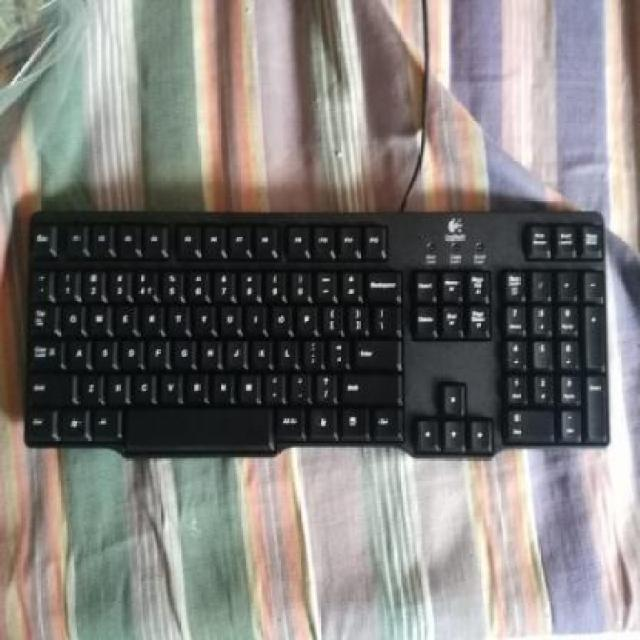keyboard: (29, 213, 613, 452)
